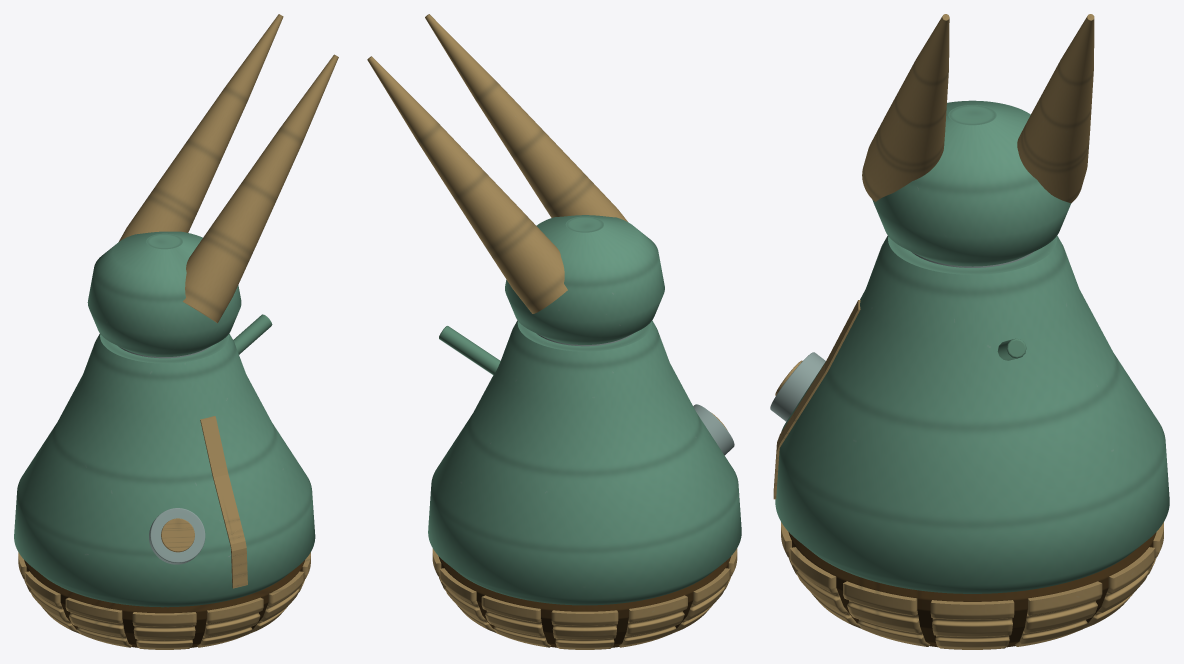
3 renders of one model, left to right at view 1: azimuth 30°, elevation 25°; view 2: azimuth 150°, elevation 25°; view 3: azimuth 270°, elevation 25°, orthographic. The views are drawn at different scales.
Parts seen in each view (by area): view 1: RI23 fixed green pedestal, RI23 rotating green head, RI23 bronze lance -1, RI23 bronze lance 1, RI23 fixed bronze skirt, RI23 bronze front strip, RI23 bronze skirt segment 08, RI23 bronze skirt segment 07, RI23 bronze skirt segment 09, RI23 base fitting bezel, RI23 bronze skirt segment 10, RI23 bronze skirt segment 06 (+2 smaller); view 2: RI23 fixed green pedestal, RI23 rotating green head, RI23 bronze lance 1, RI23 bronze lance -1, RI23 fixed bronze skirt, RI23 bronze skirt segment 04, RI23 bronze skirt segment 03, RI23 bronze skirt segment 05, RI23 bronze skirt segment 06, RI23 bronze skirt segment 02, RI23 fixed green spur, RI23 base fitting bezel; view 3: RI23 fixed green pedestal, RI23 rotating green head, RI23 bronze lance -1, RI23 bronze lance 1, RI23 fixed bronze skirt, RI23 bronze skirt segment 00, RI23 bronze skirt segment 11, RI23 bronze skirt segment 01, RI23 bronze skirt segment 10, RI23 bronze skirt segment 02, RI23 base fitting bezel, RI23 bronze front strip.
Part boxes in pixels (box(x1,y1,x2,y2)): RI23 fixed green pedestal: box(14, 333, 315, 607); RI23 rotating green head: box(87, 231, 241, 356); RI23 bronze lance -1: box(183, 54, 338, 323); RI23 bronze lance 1: box(119, 14, 283, 241); RI23 fixed bronze skirt: box(24, 560, 304, 647); RI23 bronze front strip: box(200, 416, 247, 588); RI23 bronze skirt segment 08: box(132, 612, 196, 649); RI23 bronze skirt segment 07: box(65, 597, 131, 647); RI23 bronze skirt segment 09: box(197, 597, 263, 647); RI23 base fitting bezel: box(149, 508, 205, 564); RI23 bronze skirt segment 10: box(249, 571, 304, 633); RI23 bronze skirt segment 06: box(25, 571, 79, 633); RI23 fixed green pedestal: box(428, 320, 741, 605); RI23 rotating green head: box(505, 215, 664, 344); RI23 bronze lance 1: box(367, 56, 567, 313); RI23 bronze lance -1: box(425, 14, 627, 221); RI23 fixed bronze skirt: box(438, 556, 731, 647); RI23 bronze skirt segment 04: box(551, 610, 618, 649); RI23 bronze skirt segment 03: box(481, 595, 550, 647); RI23 bronze skirt segment 05: box(618, 595, 687, 647); RI23 bronze skirt segment 06: box(673, 568, 730, 632); RI23 bronze skirt segment 02: box(439, 568, 496, 632); RI23 fixed green spur: box(439, 326, 500, 374); RI23 base fitting bezel: box(693, 404, 734, 455); RI23 fixed green pedestal: box(775, 235, 1169, 593); RI23 rotating green head: box(872, 100, 1071, 266); RI23 bronze lance -1: box(862, 14, 949, 201); RI23 bronze lance 1: box(1017, 14, 1094, 203); RI23 fixed bronze skirt: box(788, 532, 1156, 647); RI23 bronze skirt segment 00: box(930, 600, 1014, 649); RI23 bronze skirt segment 11: box(843, 581, 929, 646); RI23 bronze skirt segment 01: box(1015, 581, 1102, 646); RI23 bronze skirt segment 10: box(789, 547, 861, 628); RI23 bronze skirt segment 02: box(1084, 547, 1155, 628); RI23 base fitting bezel: box(770, 352, 825, 421); RI23 bronze front strip: box(773, 300, 860, 499).
Bounding box in the file's own units: 1.1 × 1.9 × 0.9927.
7 materials, 5 textured.
